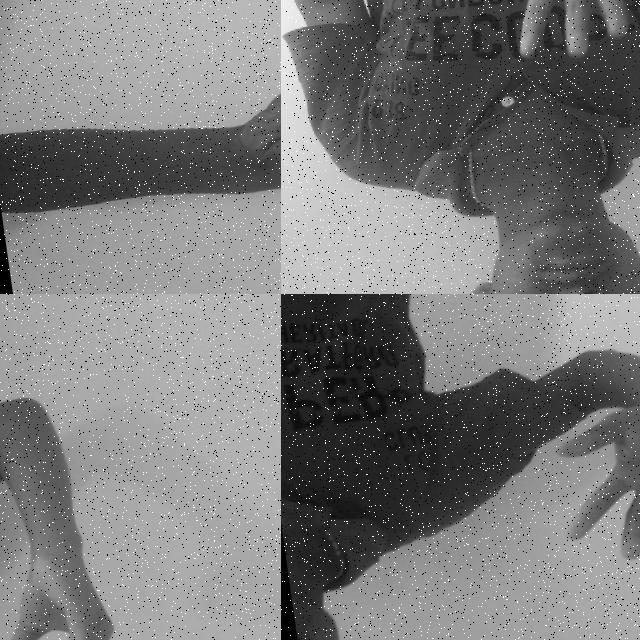Corna: (175, 0, 281, 199)
Moutza: (535, 378, 640, 579), (449, 0, 640, 77)
Okay: (0, 516, 136, 640)
